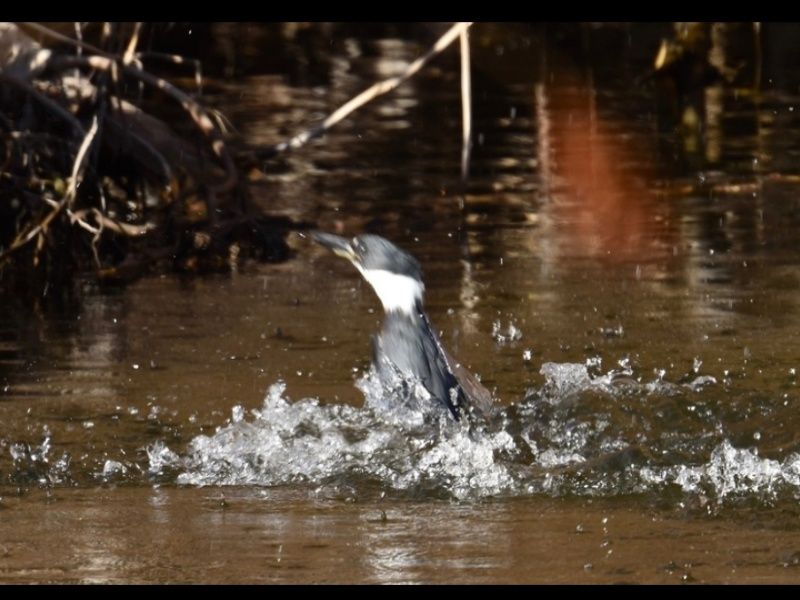kingfisher: (310, 225, 490, 423)
